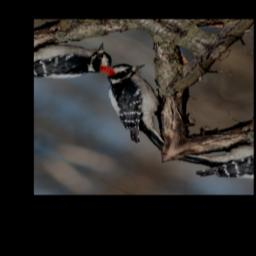Woodpecker: (70, 52, 217, 156)
